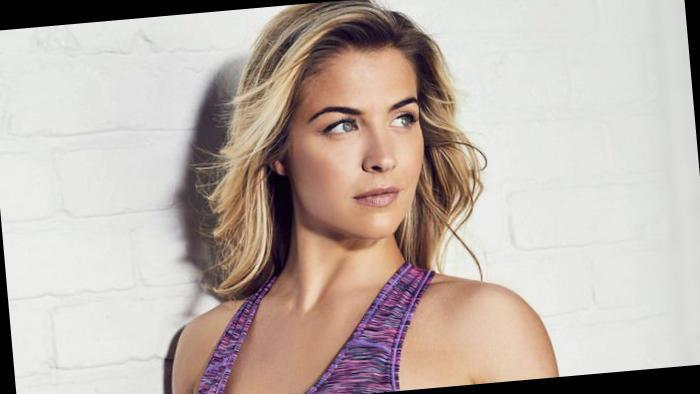Sober: (297, 47, 424, 239)
